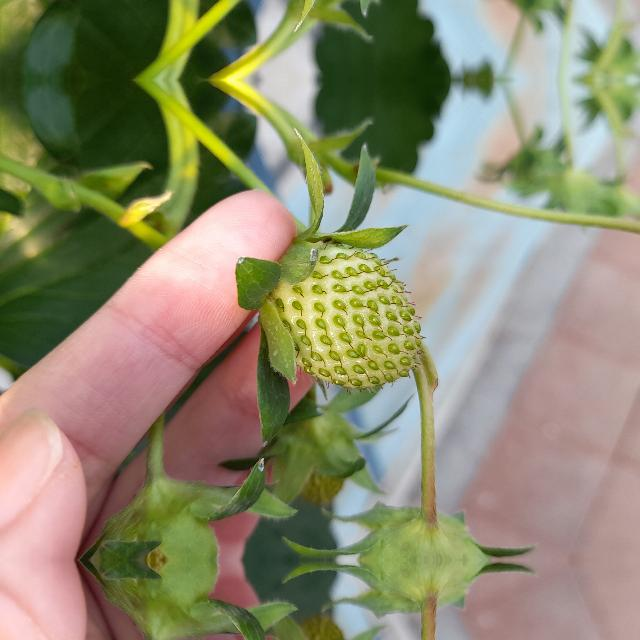Health_25: (268, 242, 426, 394)
